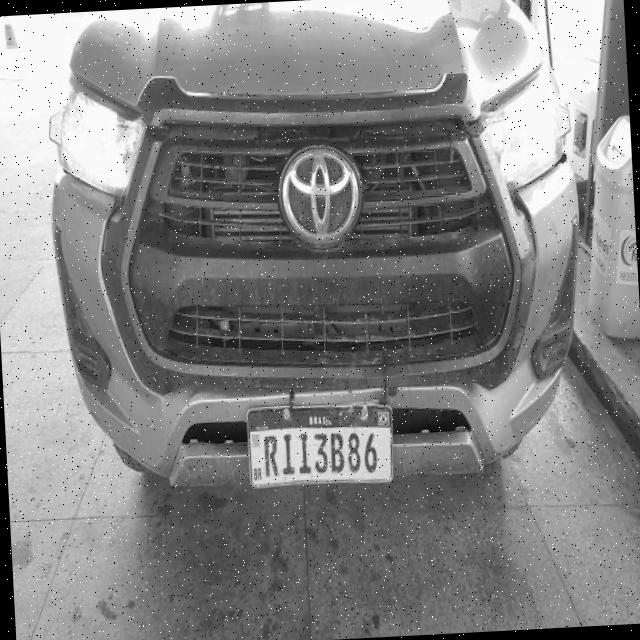placa_mercosul: (248, 406, 399, 489)
